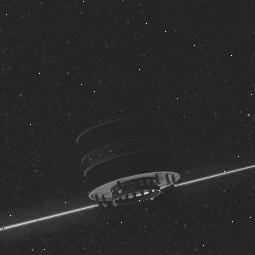double_start: (58, 94, 201, 220)
